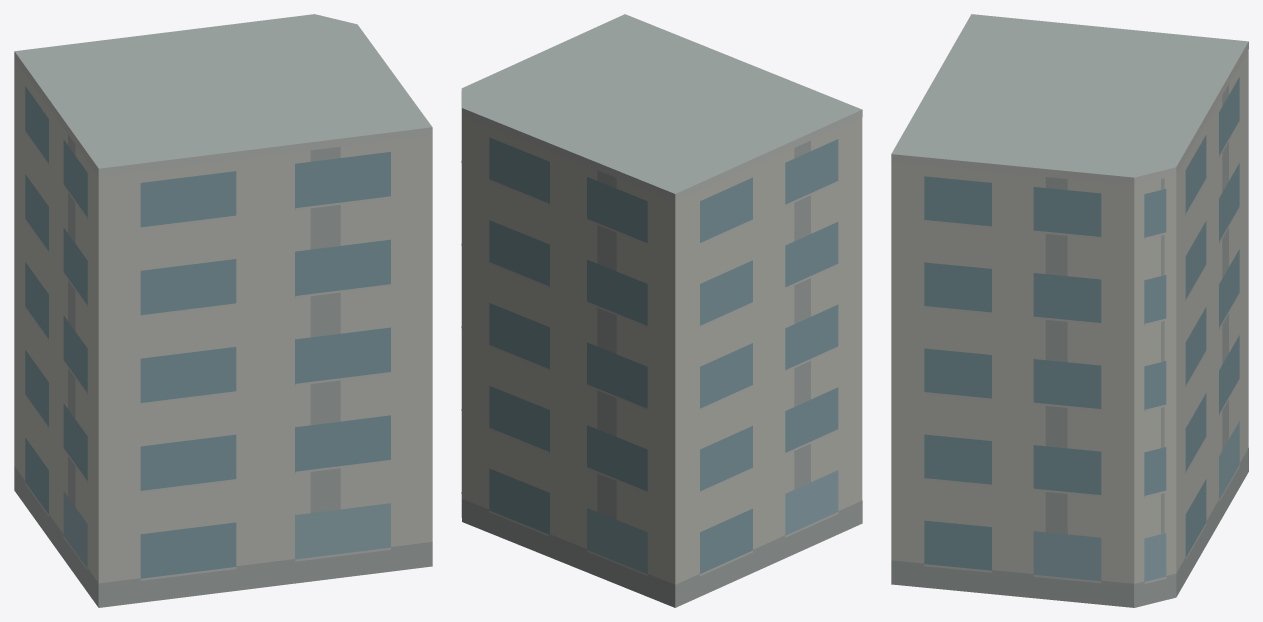
Rendered from survey-upis-32538496.glb.
3 views of the same model, side by side, from view 1: azimuth 30°, elevation 25°; view 2: azimuth 150°, elevation 25°; view 3: azimuth 270°, elevation 25° (orthographic). The views are drawn at different scales.
Parts seen in each view (by area): view 1: survey-upis-32538496.tmp; view 2: survey-upis-32538496.tmp; view 3: survey-upis-32538496.tmp.
Boxes of the visible parts, x1=… form: survey-upis-32538496.tmp: x1=14, y1=14, x2=432, y2=607; survey-upis-32538496.tmp: x1=461, y1=14, x2=862, y2=607; survey-upis-32538496.tmp: x1=891, y1=14, x2=1248, y2=607.
Size of the model in its own units: 10.77 by 13.2 by 9.95.
